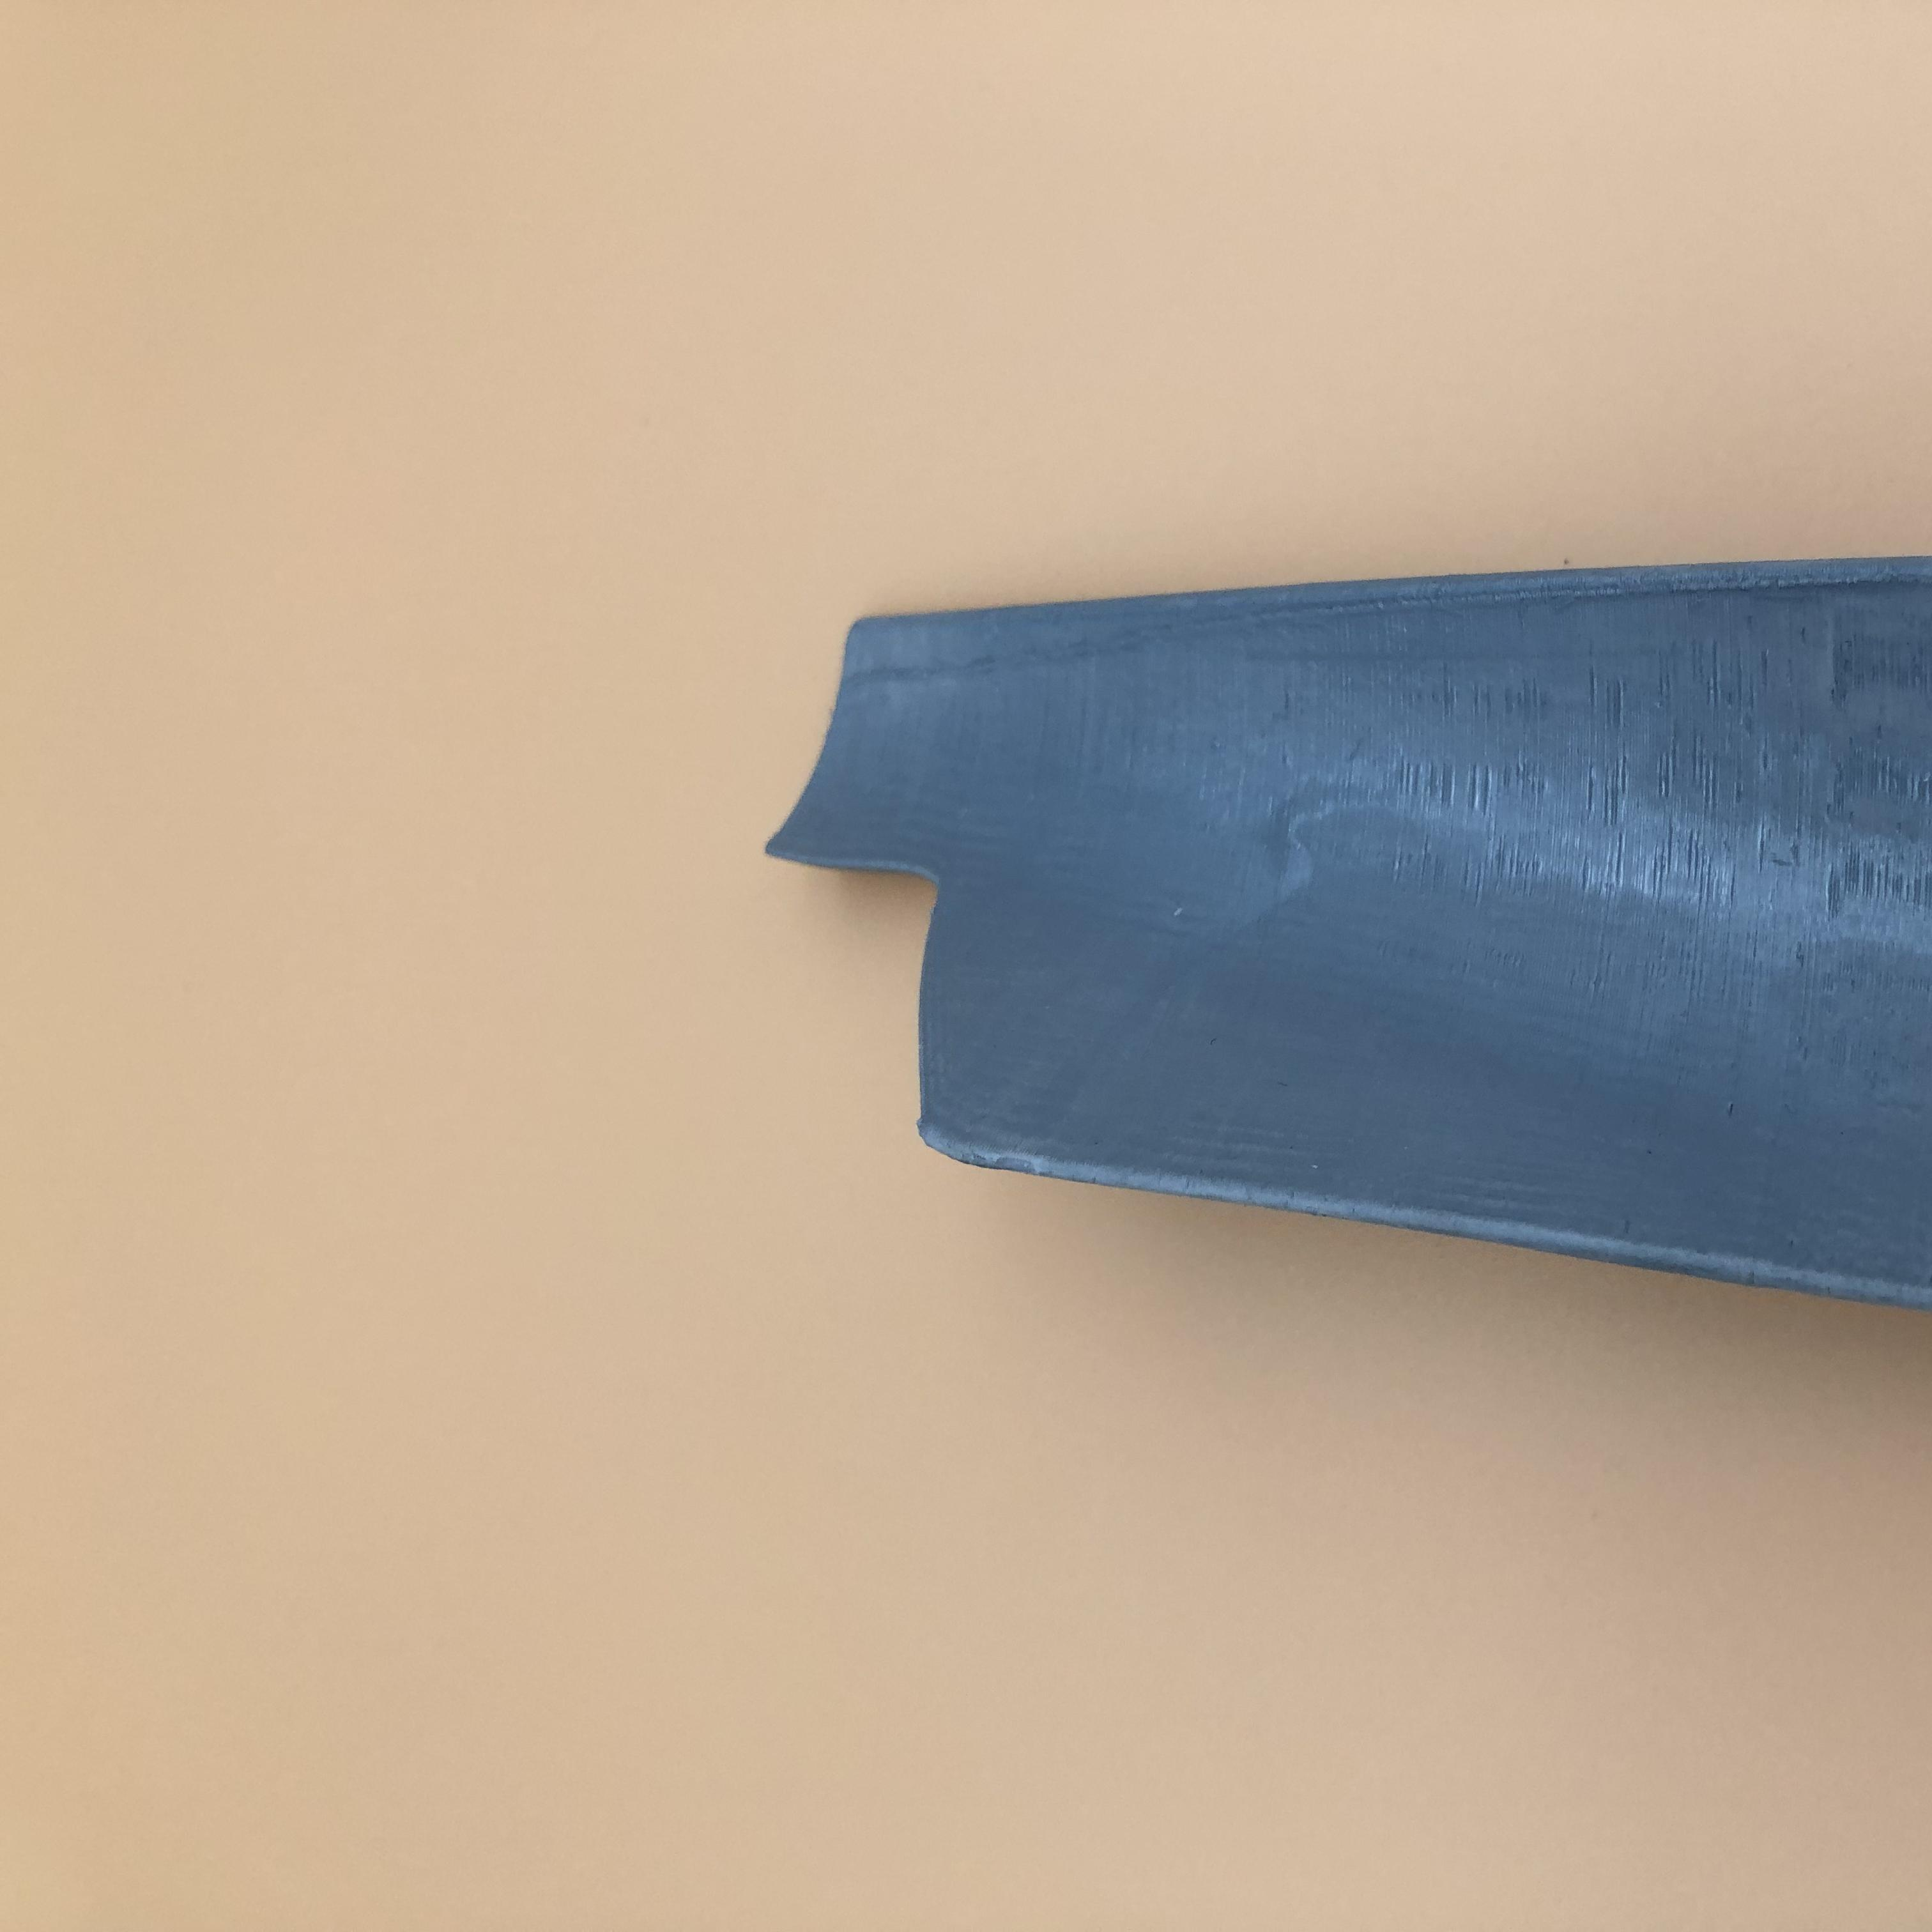fracture: (778, 828, 996, 1164)
